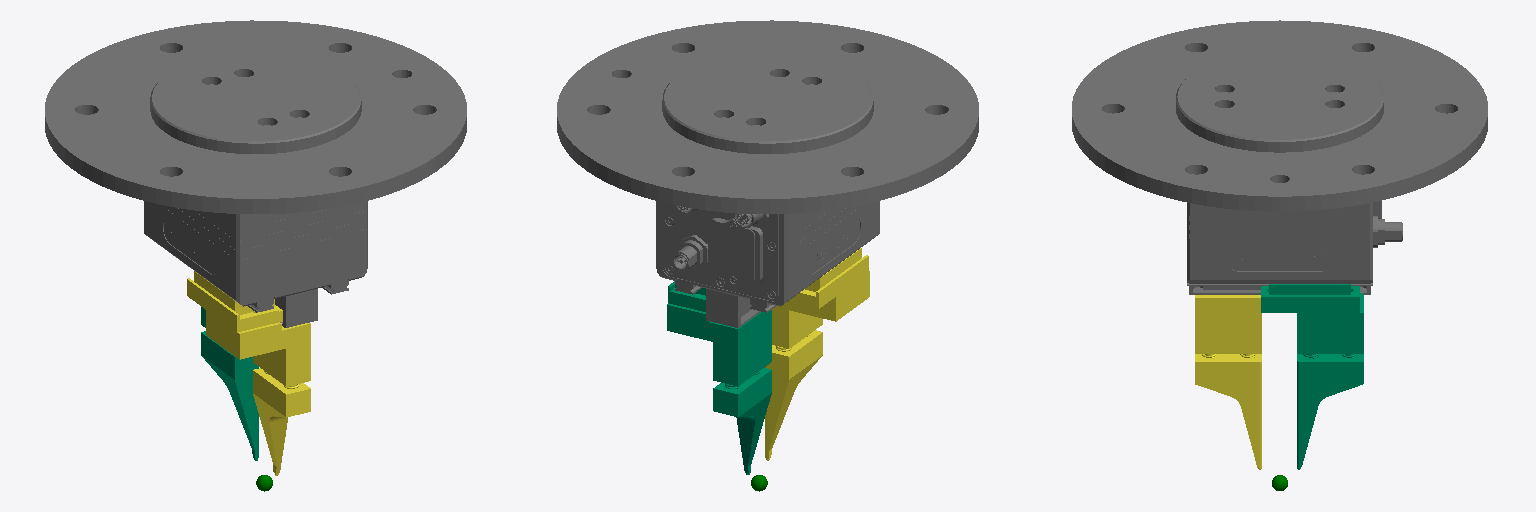
The robot description file, URDF, robot "SRG":
<?xml version="1.0" ?>
<robot name="SRG">
  <link name="baseLink">
  </link>
  <link name="body">
    <inertial>
      <origin rpy="0 0 0" xyz="0 0 0"/>
       <mass value="0.001"/>
       <inertia ixx="0.01" ixy="0" ixz="0" iyy="0.01" iyz="0" izz="0.01"/>
    </inertial>
    <visual>
      <origin rpy="0 0 0" xyz="0 0.0 0.0"/>
      <geometry>
			<mesh filename="tool_mesh/SRG_Base.stl" scale="0.001 0.001 0.001"/>
      </geometry>
       <material name="grey">
        <color rgba="0.5 0.5 0.5 1.0"/>
      </material>
    </visual>
    <collision>
      <origin rpy="0 0 0" xyz="0 0.0 0.0"/>
      <geometry>
			<mesh filename="tool_mesh/SRG_Base.stl" scale="0.001 0.001 0.001"/>
      </geometry>>
    </collision>
  </link>
  <link name="leftfinger">
    <contact>
      <stiffness value="1000.0"/>
      <damping value="10.0"/>
      <spinning_friction value="1"/>
      <lateral_friction value="1"/>
      <rolling_friction value="1" />
      <contact_cfm value="100"/>
      <contact_erp value="100"/>
    </contact>
  	<inertial>
      <origin rpy="0 0 0" xyz="0 0 0"/>
       <mass value="0.1"/>
       <inertia ixx="0.1" ixy="0" ixz="0" iyy="0.1" iyz="0" izz="0.1"/>
    </inertial>
    <visual>
      <origin rpy="0 0 0" xyz="0.0 0.0 0.0"/>
      <geometry>
			<mesh filename="tool_mesh/SRG_Finger1.stl" scale="0.001 0.001 0.001"/>
      </geometry>
    </visual>
    <collision>
      <origin rpy="0 0 0" xyz="0.0 0 0.0"/>
      <geometry>
			<mesh filename="tool_mesh/SRG_Finger1.stl" scale="0.001 0.001 0.001"/>
      </geometry>
      <material name="white"/>
    </collision>
  </link>
  <link name="rightfinger">
    <contact>
      <stiffness value="1000.0"/>
      <damping value="10.0"/>
      <spinning_friction value="1"/>
      <lateral_friction value="1"/>
      <rolling_friction value="1" />
      <contact_cfm value="100"/>
      <contact_erp value="100"/>
    </contact>
  	<inertial>
      <origin rpy="0 0 0" xyz="0 0 0"/>
       <mass value="0.1"/>
       <inertia ixx="0.1" ixy="0" ixz="0" iyy="0.1" iyz="0" izz="0.1"/>
    </inertial>
    <visual>
      <origin rpy="0 0 0" xyz="0.0 0.0 0.0"/>
      <geometry>
			<mesh filename="tool_mesh/SRG_Finger2.stl" scale="0.001 0.001 0.001"/>
      </geometry>
      <material name="white"/>
    </visual>
    <collision>
      <origin rpy="0 0 0" xyz="0.0 0.0 0.0"/>
      <geometry>
			<mesh filename="tool_mesh/SRG_Finger2.stl" scale="0.001 0.001 0.001"/>
      </geometry>
      <material name="white"/>
    </collision>
  </link>
  <joint name="docking_trafo" type="fixed">
		<parent link="baseLink"/>
		<child link="body"/>
		<origin rpy="0 0 0" xyz="0 0 0"/>
  </joint>
  <joint name="finger_joint1" type="prismatic">
    <parent link="body"/>
    <child link="leftfinger"/>
    <origin rpy="0 0 0" xyz="0 0 0"/>
    <axis xyz="0 -1 0"/>
    <limit effort="0.001" lower="-0.02" upper="0.0" velocity="0.2"/>
  </joint>
  <joint name="finger_joint2" type="prismatic">
    <parent link="body"/>
    <child link="rightfinger"/>
    <origin rpy="0 0 0" xyz="0 0 0"/>
    <axis xyz="0 1 0"/>
    <limit effort="0.001" lower="-0.02" upper="0.0" velocity="0.2"/>
    <mimic joint="finger_joint1"/>
  </joint>

  <joint name="gripping_trafo" type="fixed">
		<parent link="baseLink"/>
		<child link="tcp"/>
		<origin xyz="0.006 0.0 -0.245" rpy="0 0 0"/>
  </joint>

  <link name="tcp">
    <visual>
        <origin xyz="0 0 0.0" rpy="0 0 0"/>
        <geometry>
           <sphere radius="0.005"/>
        </geometry>
        <material name="black">
            <color rgba="0.0 0.5 0.0 1.0"/>
        </material>
    </visual>
  </link>

</robot>

--- What the picture shows (computed from the rendered views, not written in the file) ---
Views: 3 orthographic renders of the robot side by side, from view 1: azimuth 30°, elevation 25°; view 2: azimuth 150°, elevation 25°; view 3: azimuth 270°, elevation 25°.
Model SRG with 5 links and 4 joints (2 prismatic, 2 fixed), rooted at baseLink, posed all joints at 0.
Visible links, largest first — view 1: body, rightfinger, leftfinger; view 2: body, leftfinger, rightfinger; view 3: body, leftfinger, rightfinger.
Boxes of the visible links, x1,y1,x2,y2 form: body: (45,20,466,327); rightfinger: (187,271,310,475); leftfinger: (201,307,258,460); body: (557,20,978,327); leftfinger: (667,281,771,474); rightfinger: (765,248,869,460); body: (1072,20,1487,294); leftfinger: (1261,284,1363,469); rightfinger: (1195,295,1261,469).
Size in the robot's own frame: 0.25 by 0.25 by 0.258 metres.
3 mesh visuals loaded from 3 distinct referenced files (3 binary STL).